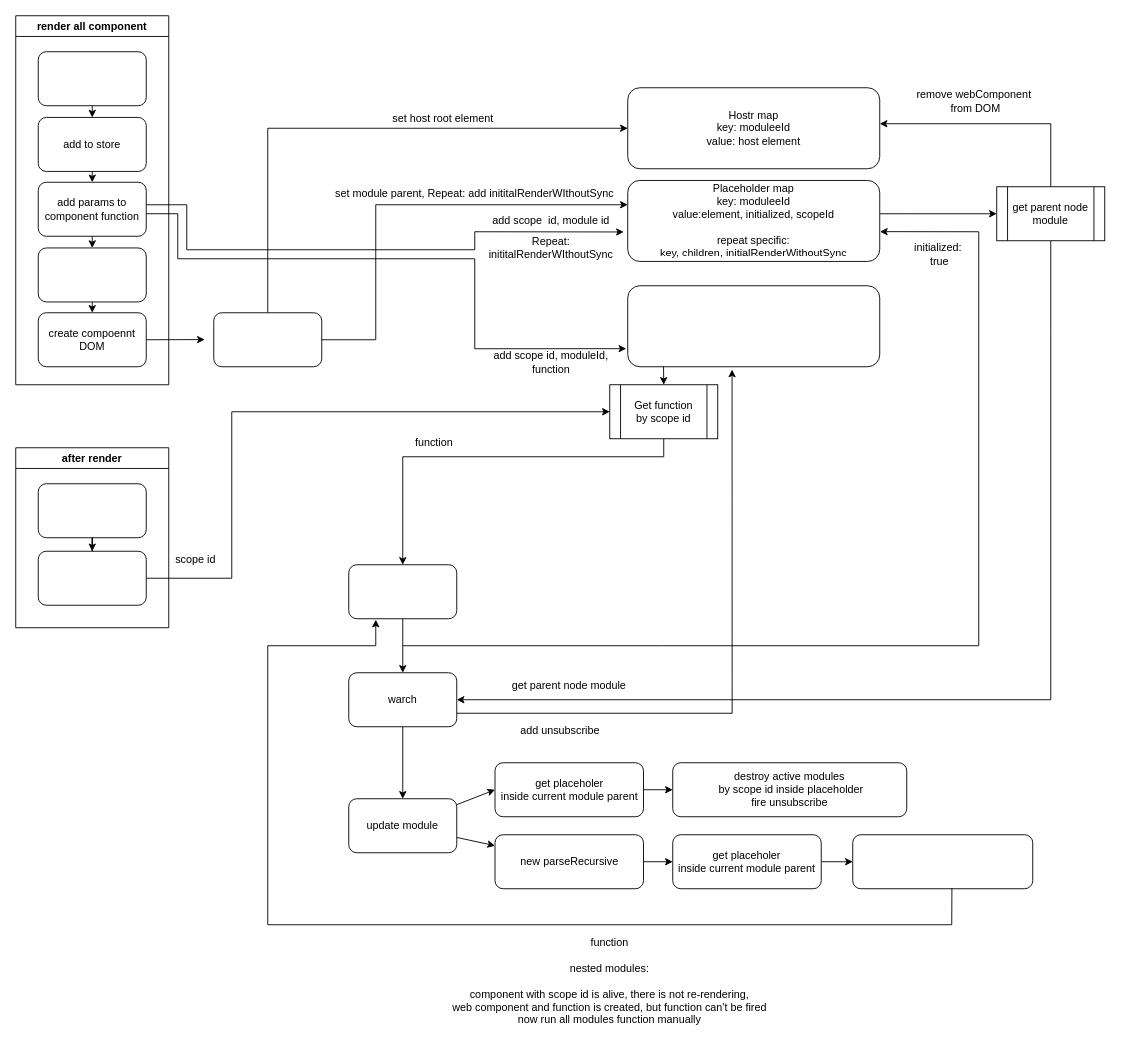
The diagram is 1121 pixels wide and 1058 high, and some of its shapes have lost their labels. Here are the shapes that lost their labels. From the top down, the box of each, then its label:
(37, 51, 146, 106): get params from web component
(37, 247, 146, 302): fire function component
(213, 312, 322, 367): moduleId web component
(627, 285, 880, 367): function MAP key: scope id value: [moduleId, function, unsubscribe]
(37, 483, 146, 538): fire all onMount for each component
(37, 550, 146, 605): fire all invalidate/repeat
(348, 564, 457, 619): fire function ( once )
(852, 834, 1033, 889): get inactive modules by scope id inside placeholder
